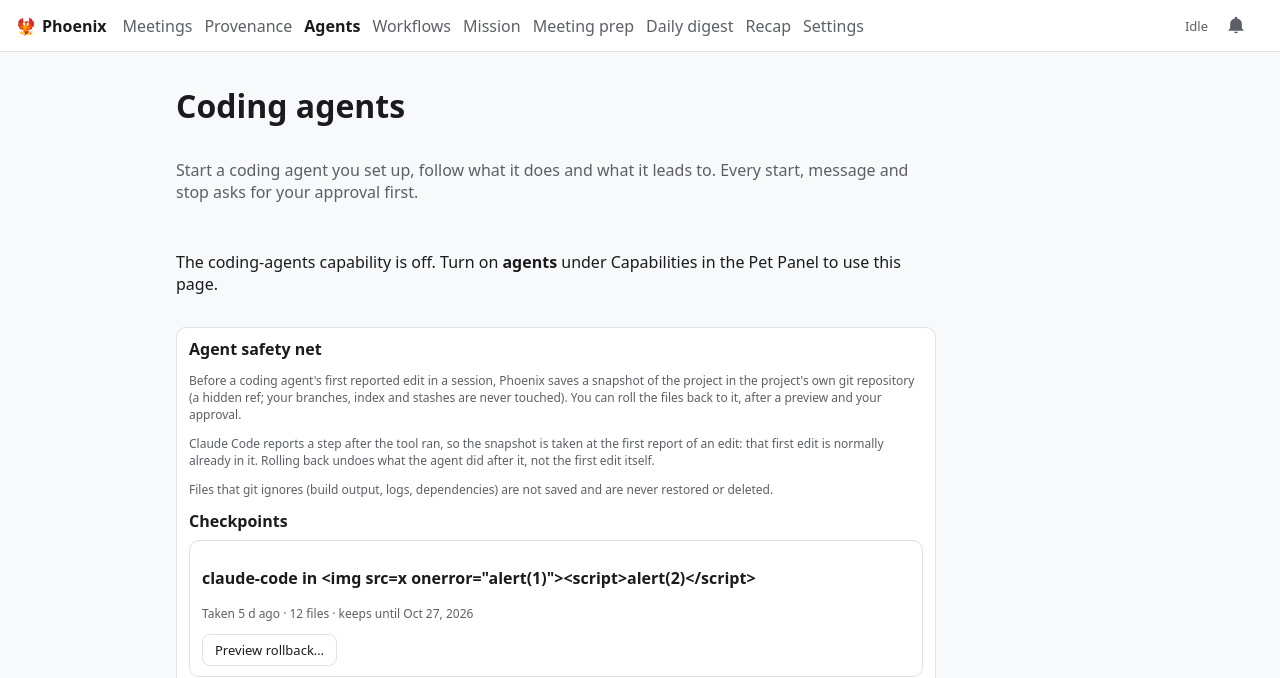
Agent safety section › agent, folder and file names are text, never markup
Expected: the text "claude-code in" is shown, [202,567,756,589]
Click the button with aria-label "Preview the rollback" at {"x": 270, "y": 650}, box [202,634,337,666]
(page scrolled)
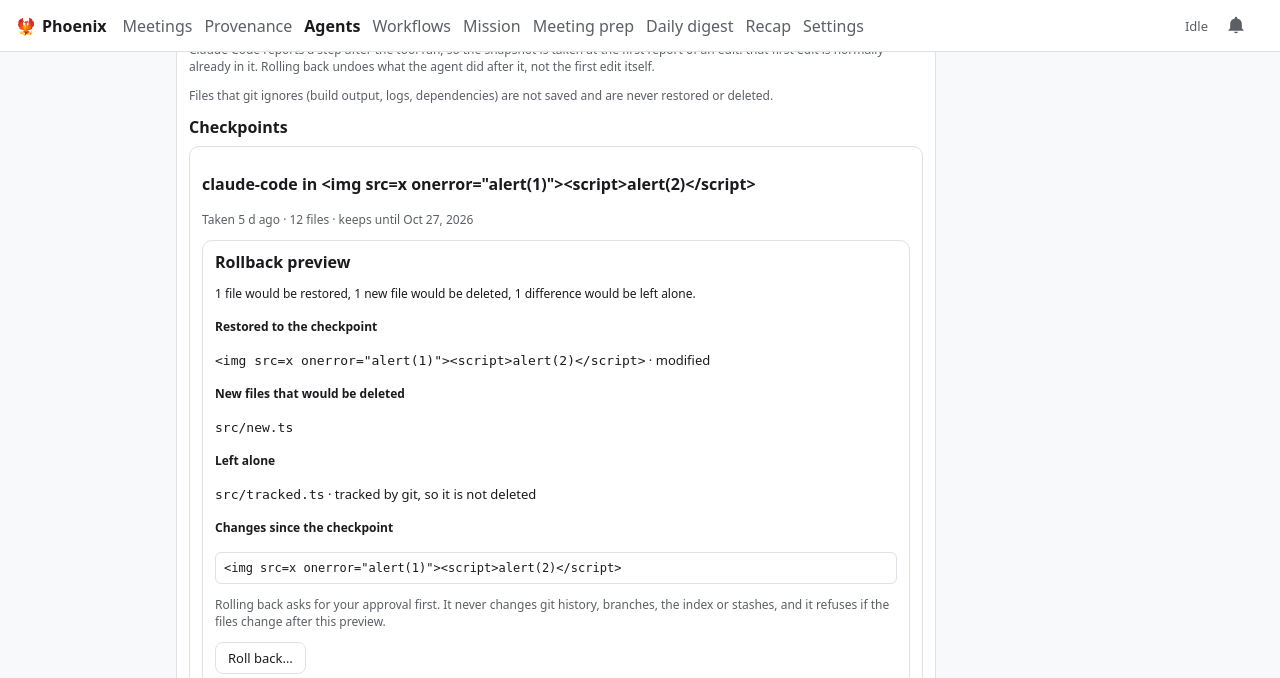
Expected: the text "<img src=x onerror=\"alert(1)\"><script>alert(2)</script>" next to "modified" is shown, [215,353,646,368]
